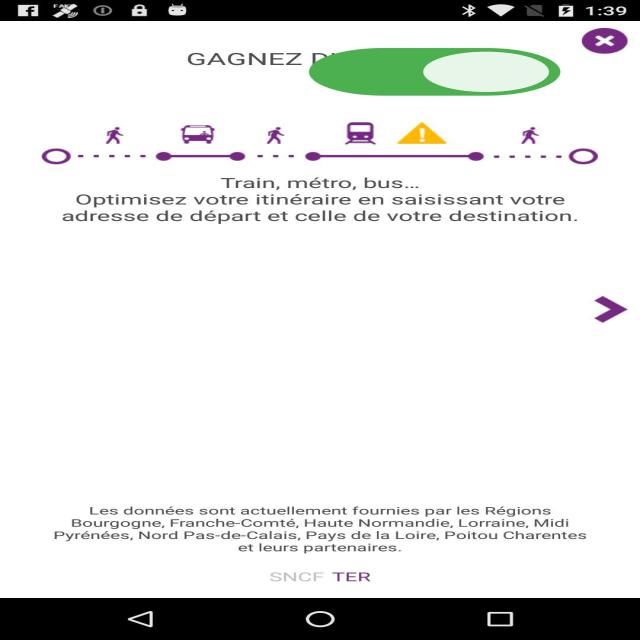social proof: (297, 29, 572, 118)
